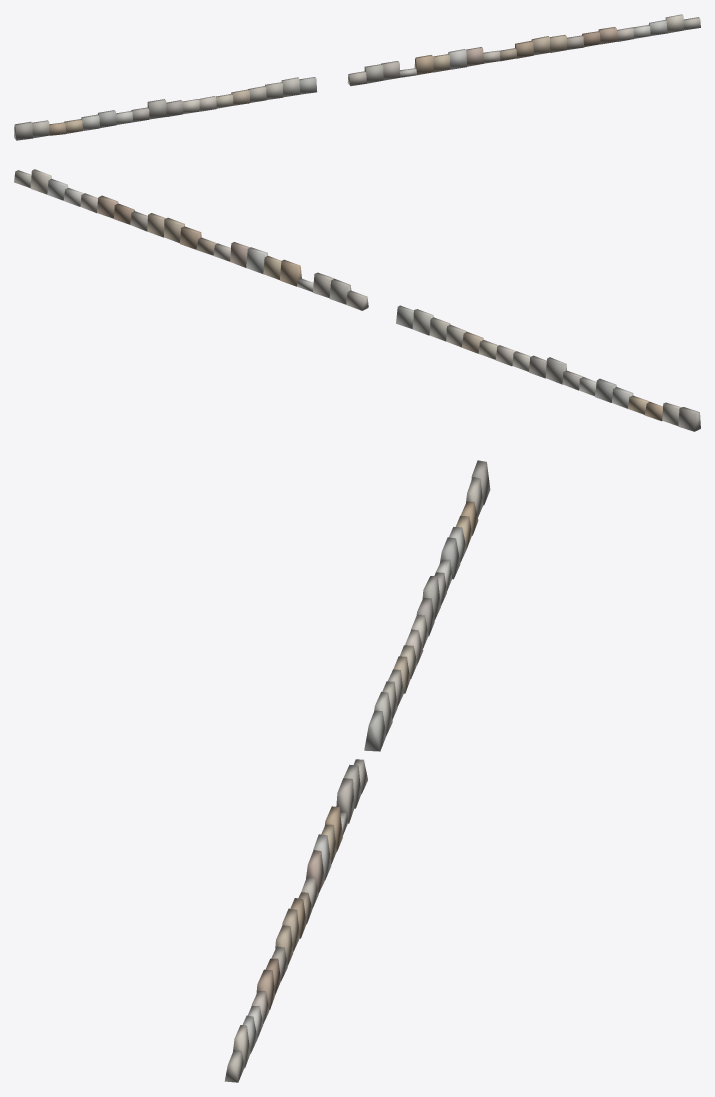
File: farm_24_31_far.glb
3 renders of one model, top to bottom at view 1: azimuth 30°, elevation 25°; view 2: azimuth 150°, elevation 25°; view 3: azimuth 270°, elevation 25°, orthographic. The views are drawn at different scales.
Parts seen in each view (by area): view 1: geometry_0; view 2: geometry_0; view 3: geometry_0.
Boxes of the visible parts, x1,y1,x2,y2 form: geometry_0: (14, 14, 700, 140); geometry_0: (14, 169, 700, 431); geometry_0: (224, 460, 490, 1082).
Size of the model in its own units: 63.67 by 2.15 by 11.76.
